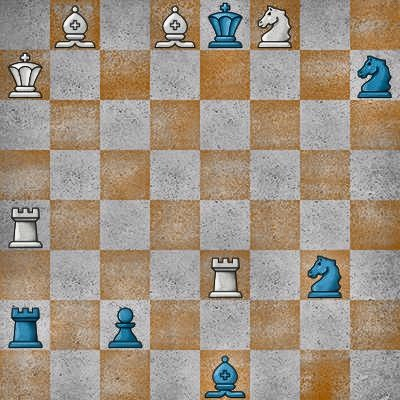black-bishop: (200, 350, 250, 400)
black-king: (200, 0, 250, 50)
black-knight: (350, 50, 400, 100), (300, 250, 350, 300)
black-pawn: (100, 300, 150, 350)
black-rook: (0, 300, 50, 350)
white-bishop: (50, 0, 100, 50), (150, 0, 200, 50)
white-king: (0, 50, 50, 100)
white-knight: (250, 0, 300, 50)
white-rook: (0, 200, 50, 250), (200, 250, 250, 300)
